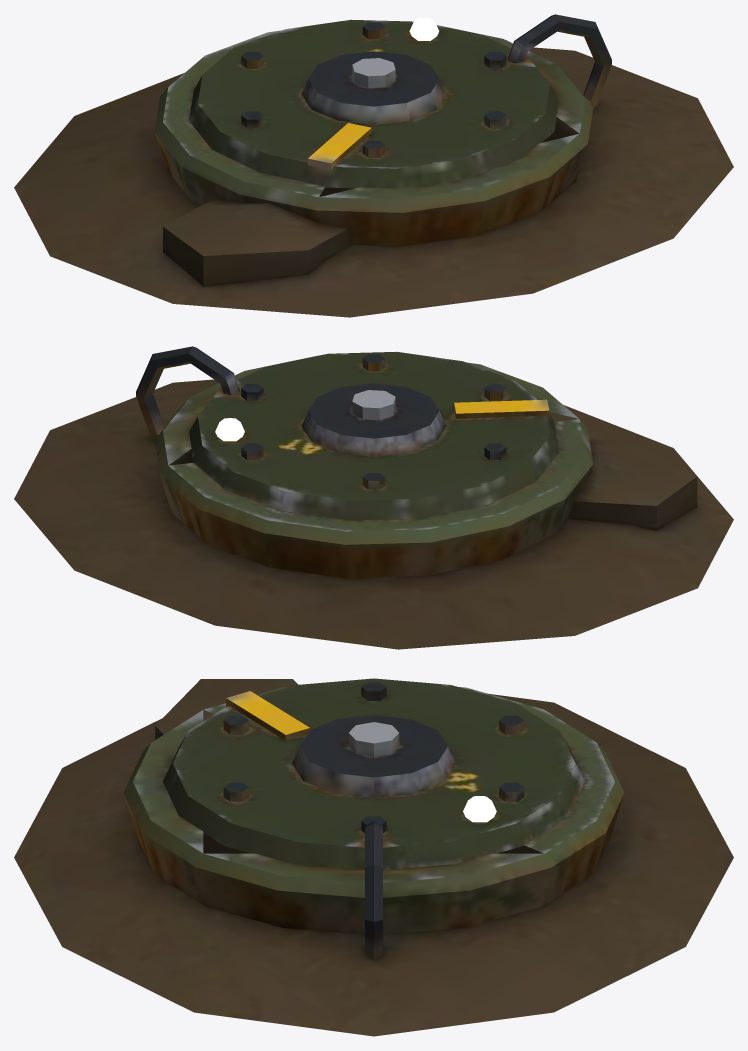
Rendered from minv.allies.glb.
3 renders of one model, top to bottom at view 1: azimuth 30°, elevation 25°; view 2: azimuth 150°, elevation 25°; view 3: azimuth 270°, elevation 25°, orthographic. The views are drawn at different scales.
Parts seen in each view (by area): view 1: root_mesh; view 2: root_mesh; view 3: root_mesh.
Part boxes in pixels (x1=…): root_mesh: x1=14, y1=14, x2=733, y2=317; root_mesh: x1=14, y1=346, x2=733, y2=649; root_mesh: x1=14, y1=678, x2=733, y2=1036.
Size of the model in its own units: 0.4 by 0.07 by 0.34.
Materials: 2 (1 with a texture image).
